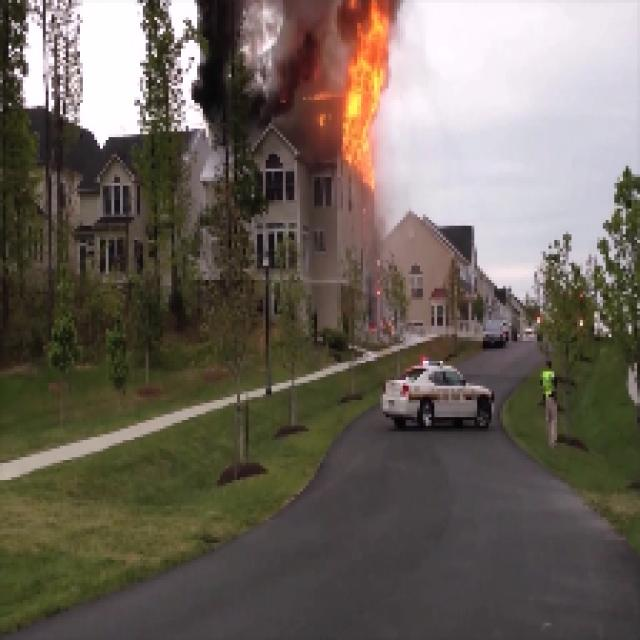fire: (344, 6, 389, 182)
smoke: (232, 2, 336, 132)
